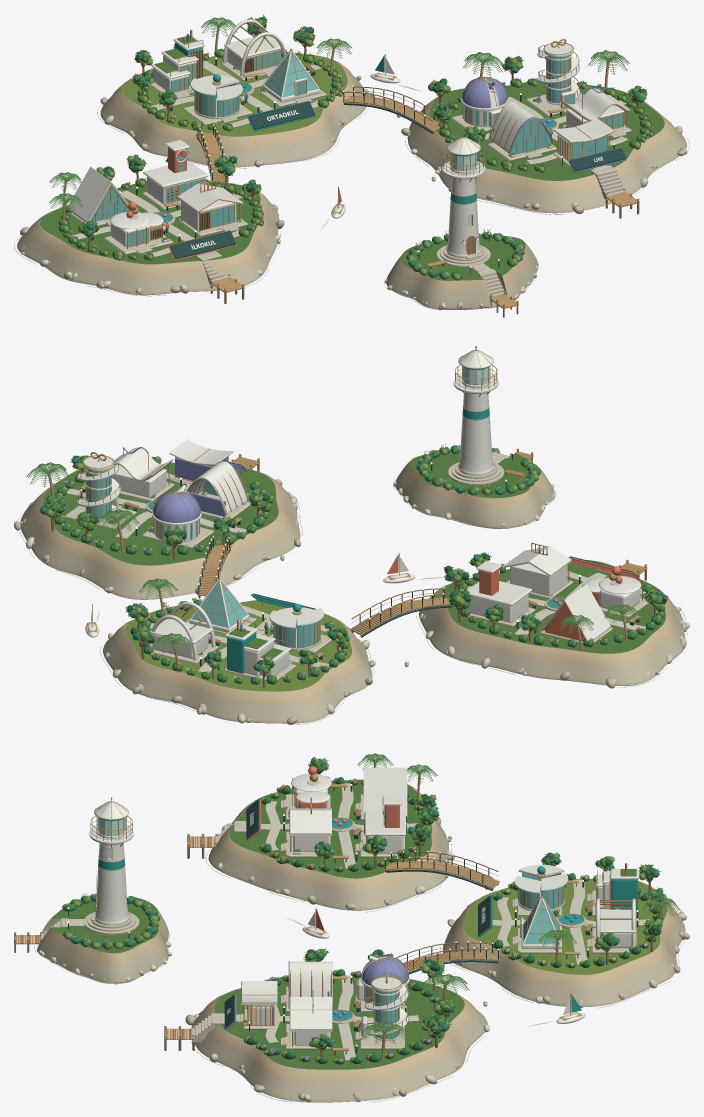
The model's file is ana-sayfa.glb.
3 views of the same model, one above another, from view 1: azimuth 30°, elevation 25°; view 2: azimuth 150°, elevation 25°; view 3: azimuth 270°, elevation 25° (orthographic). The views are drawn at different scales.
Visible parts, largest first — view 1: stage|lise, stage|ilkokul, stage|ortaokul, landmark|fener, static; view 2: stage|lise, stage|ilkokul, stage|ortaokul, landmark|fener, static; view 3: stage|lise, stage|ilkokul, stage|ortaokul, landmark|fener, static.
Part boxes in pixels (bbox=[...]): stage|lise: bbox=[401, 38, 689, 218]; stage|ilkokul: bbox=[14, 140, 284, 303]; stage|ortaokul: bbox=[97, 15, 373, 168]; landmark|fener: bbox=[384, 133, 538, 317]; static: bbox=[196, 85, 440, 183]; stage|lise: bbox=[14, 439, 303, 599]; stage|ilkokul: bbox=[416, 542, 689, 688]; stage|ortaokul: bbox=[100, 577, 375, 724]; landmark|fener: bbox=[393, 346, 556, 528]; static: bbox=[197, 535, 453, 637]; stage|lise: bbox=[164, 948, 489, 1102]; stage|ilkokul: bbox=[187, 753, 454, 912]; stage|ortaokul: bbox=[440, 852, 689, 1008]; landmark|fener: bbox=[14, 797, 171, 984]; static: bbox=[384, 850, 499, 974].
Bounding box in the file's own units: 50.96 × 11.73 × 46.69.
